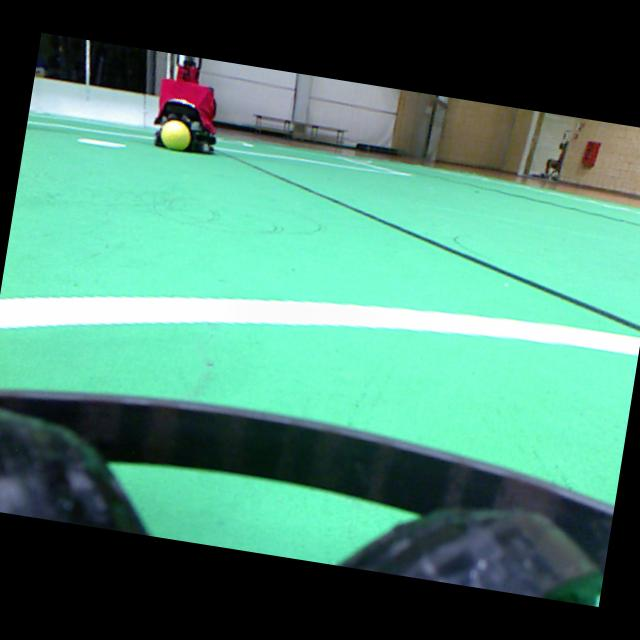ball: (160, 119, 190, 150)
